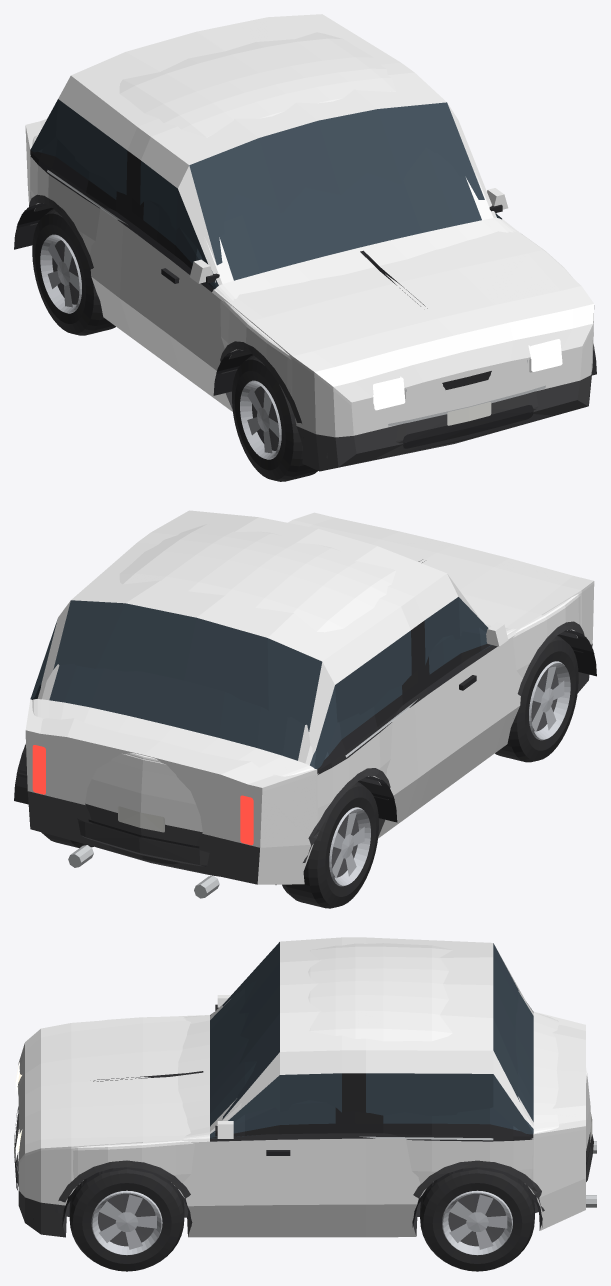
The model's file is jabuti.glb.
3 views of the same model, one above another, from view 1: azimuth 30°, elevation 25°; view 2: azimuth 150°, elevation 25°; view 3: azimuth 270°, elevation 25° (orthographic). The views are drawn at different scales.
Parts seen in each view (by area): view 1: body.001, body, glass.001, glass, details, wheel_fr, wheel_rr, wheel_wells.001, lamp_head.001; view 2: body.001, body, glass.001, glass, wheel_rr, details, wheel_fr, wheel_wells.001, lamp_tail.001, wheel_wells; view 3: body.001, body, glass.001, wheel_fl, wheel_rl, glass, details, wheel_wells, wheel_wells.001.
Part boxes in pixels (<box>): body.001: <box>25,14,594,471</box>; body: <box>30,32,574,393</box>; glass.001: <box>30,99,501,289</box>; glass: <box>38,137,500,288</box>; details: <box>29,170,590,458</box>; wheel_fr: <box>232,355,317,481</box>; wheel_rr: <box>32,209,115,335</box>; wheel_wells.001: <box>14,203,594,395</box>; lamp_head.001: <box>373,339,562,410</box>; body.001: <box>25,510,594,884</box>; body: <box>32,524,580,864</box>; glass.001: <box>30,597,491,769</box>; glass: <box>32,627,486,768</box>; wheel_rr: <box>282,782,378,908</box>; details: <box>68,559,584,898</box>; wheel_fr: <box>495,635,578,762</box>; wheel_wells.001: <box>16,630,596,822</box>; lamp_tail.001: <box>32,745,253,845</box>; wheel_wells: <box>14,630,596,820</box>; body.001: <box>18,937,585,1237</box>; body: <box>65,943,591,1216</box>; glass.001: <box>210,942,532,1138</box>; wheel_fl: <box>69,1169,184,1271</box>; wheel_rl: <box>420,1169,534,1271</box>; glass: <box>210,980,533,1137</box>; details: <box>14,995,596,1219</box>; wheel_wells: <box>62,1167,542,1227</box>; wheel_wells.001: <box>62,1169,541,1226</box>.
Bounding box in the file's own units: 1.97 × 1.61 × 3.66.
